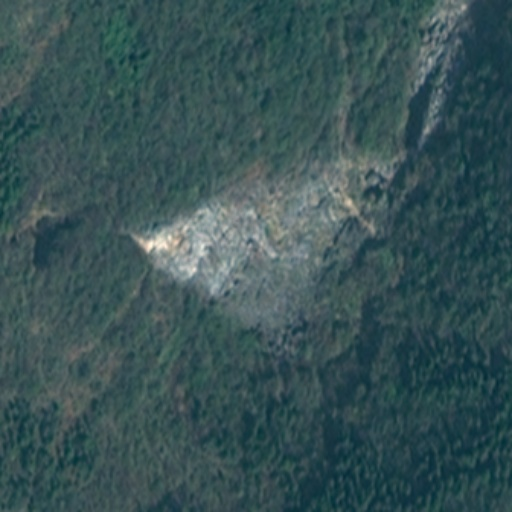landslide: (137, 157, 409, 323)
